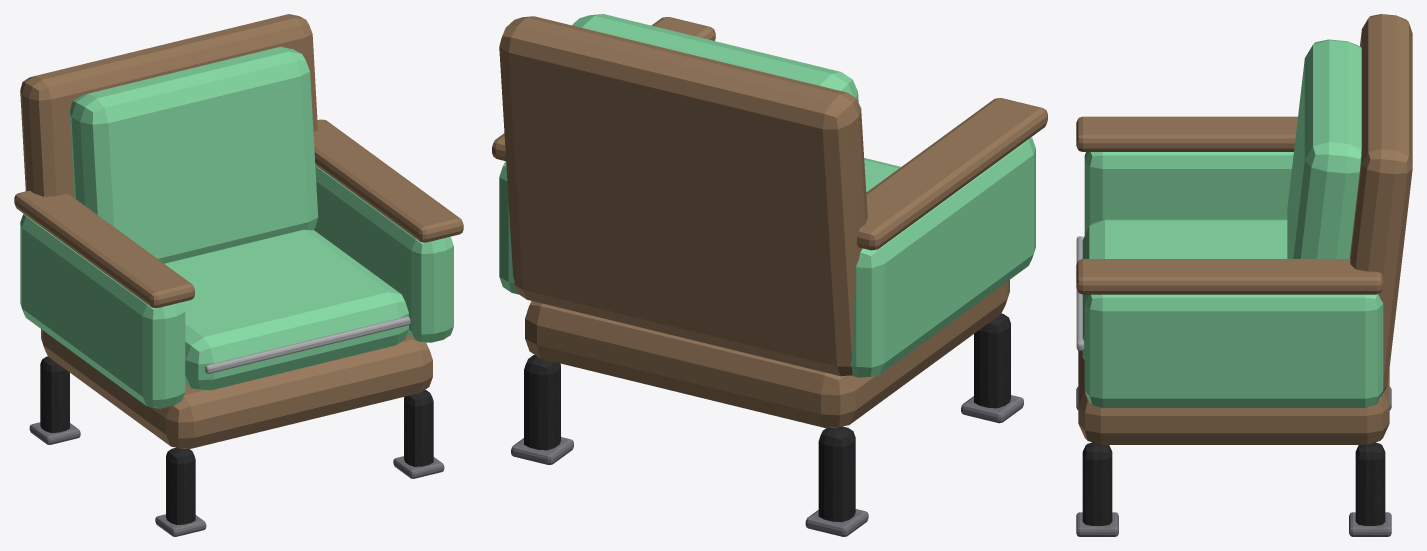
Rendered from decor_quiet_armchair.glb.
3 views of the same model, side by side, from view 1: azimuth 30°, elevation 25°; view 2: azimuth 150°, elevation 25°; view 3: azimuth 270°, elevation 25° (orthographic). The views are drawn at different scales.
Visible parts, largest first — view 1: DEC_QuietArmchair__Back_Cushion, DEC_QuietArmchair__Seat_Cushion, DEC_QuietArmchair__Seat_Frame, DEC_QuietArmchair__Arm_0, DEC_QuietArmchair__Back_Frame, DEC_QuietArmchair__Arm_1, DEC_QuietArmchair__Arm_Cap_0, DEC_QuietArmchair__Arm_Cap_1, DEC_QuietArmchair__Leg_0_0, DEC_QuietArmchair__Leg_1_0, DEC_QuietArmchair__Leg_0_1, DEC_QuietArmchair__Cushion_Piping (+3 smaller); view 2: DEC_QuietArmchair__Back_Frame, DEC_QuietArmchair__Arm_0, DEC_QuietArmchair__Seat_Frame, DEC_QuietArmchair__Arm_Cap_0, DEC_QuietArmchair__Back_Cushion, DEC_QuietArmchair__Leg_0_1, DEC_QuietArmchair__Leg_1_1, DEC_QuietArmchair__Leg_0_0, DEC_QuietArmchair__Arm_1, DEC_QuietArmchair__Arm_Cap_1, DEC_QuietArmchair__Foot_0_1, DEC_QuietArmchair__Foot_0_0 (+2 smaller); view 3: DEC_QuietArmchair__Arm_1, DEC_QuietArmchair__Back_Frame, DEC_QuietArmchair__Arm_0, DEC_QuietArmchair__Back_Cushion, DEC_QuietArmchair__Seat_Frame, DEC_QuietArmchair__Arm_Cap_1, DEC_QuietArmchair__Seat_Cushion, DEC_QuietArmchair__Arm_Cap_0, DEC_QuietArmchair__Leg_1_0, DEC_QuietArmchair__Leg_1_1, DEC_QuietArmchair__Foot_1_0, DEC_QuietArmchair__Foot_1_1 (+1 smaller).
Boxes of the visible parts, box(x1,y1,x2,y2) form: DEC_QuietArmchair__Back_Cushion: box(69, 46, 318, 263); DEC_QuietArmchair__Seat_Cushion: box(164, 229, 408, 390); DEC_QuietArmchair__Seat_Frame: box(41, 329, 432, 448); DEC_QuietArmchair__Arm_0: box(20, 214, 185, 408); DEC_QuietArmchair__Back_Frame: box(20, 14, 317, 197); DEC_QuietArmchair__Arm_1: box(313, 165, 453, 342); DEC_QuietArmchair__Arm_Cap_0: box(14, 190, 194, 308); DEC_QuietArmchair__Arm_Cap_1: box(313, 119, 463, 242); DEC_QuietArmchair__Leg_0_0: box(166, 447, 195, 524); DEC_QuietArmchair__Leg_1_0: box(404, 390, 433, 466); DEC_QuietArmchair__Leg_0_1: box(40, 356, 69, 432); DEC_QuietArmchair__Cushion_Piping: box(205, 316, 410, 373); DEC_QuietArmchair__Back_Frame: box(499, 16, 867, 376); DEC_QuietArmchair__Arm_0: box(850, 137, 1035, 377); DEC_QuietArmchair__Seat_Frame: box(525, 280, 1009, 427); DEC_QuietArmchair__Arm_Cap_0: box(856, 98, 1047, 250); DEC_QuietArmchair__Back_Cushion: box(572, 14, 858, 101); DEC_QuietArmchair__Leg_0_1: box(818, 426, 855, 522); DEC_QuietArmchair__Leg_1_1: box(524, 355, 560, 450); DEC_QuietArmchair__Leg_0_0: box(974, 313, 1010, 408); DEC_QuietArmchair__Arm_1: box(499, 161, 518, 294); DEC_QuietArmchair__Arm_Cap_1: box(492, 17, 715, 161); DEC_QuietArmchair__Foot_0_1: box(805, 509, 868, 536); DEC_QuietArmchair__Foot_0_0: box(961, 395, 1023, 423); DEC_QuietArmchair__Arm_1: box(1084, 294, 1383, 407); DEC_QuietArmchair__Back_Frame: box(1349, 14, 1412, 396); DEC_QuietArmchair__Arm_0: box(1084, 152, 1293, 235); DEC_QuietArmchair__Back_Cushion: box(1287, 39, 1361, 258); DEC_QuietArmchair__Seat_Frame: box(1078, 350, 1389, 444); DEC_QuietArmchair__Arm_Cap_1: box(1076, 259, 1383, 294); DEC_QuietArmchair__Seat_Cushion: box(1082, 219, 1287, 359); DEC_QuietArmchair__Arm_Cap_0: box(1076, 116, 1297, 151); DEC_QuietArmchair__Leg_1_0: box(1082, 442, 1112, 525); DEC_QuietArmchair__Leg_1_1: box(1355, 442, 1385, 525); DEC_QuietArmchair__Foot_1_0: box(1076, 512, 1118, 536); DEC_QuietArmchair__Foot_1_1: box(1349, 512, 1391, 536).
Size of the model in its own units: 0.92 by 0.9951 by 0.7893.
5 materials, 3 textured.
